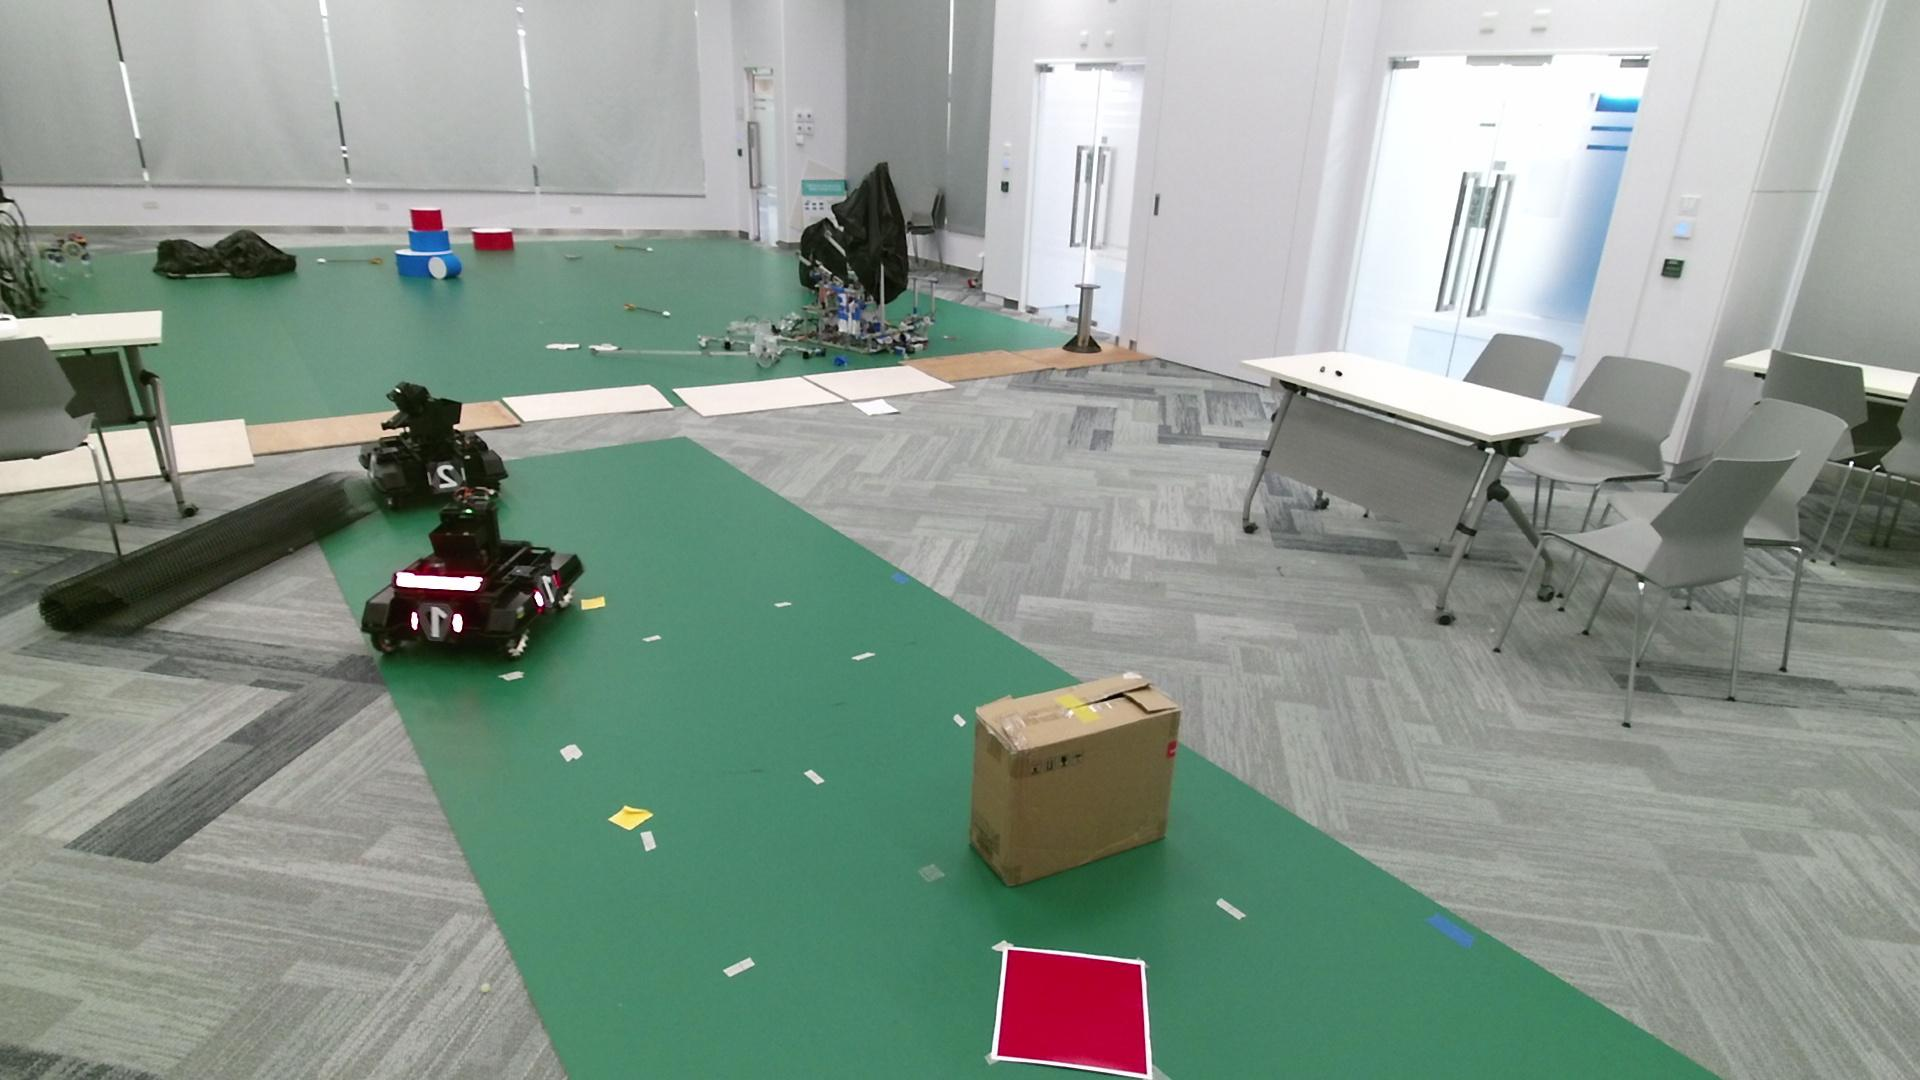robot: (359, 484, 585, 659), (357, 380, 508, 506)
